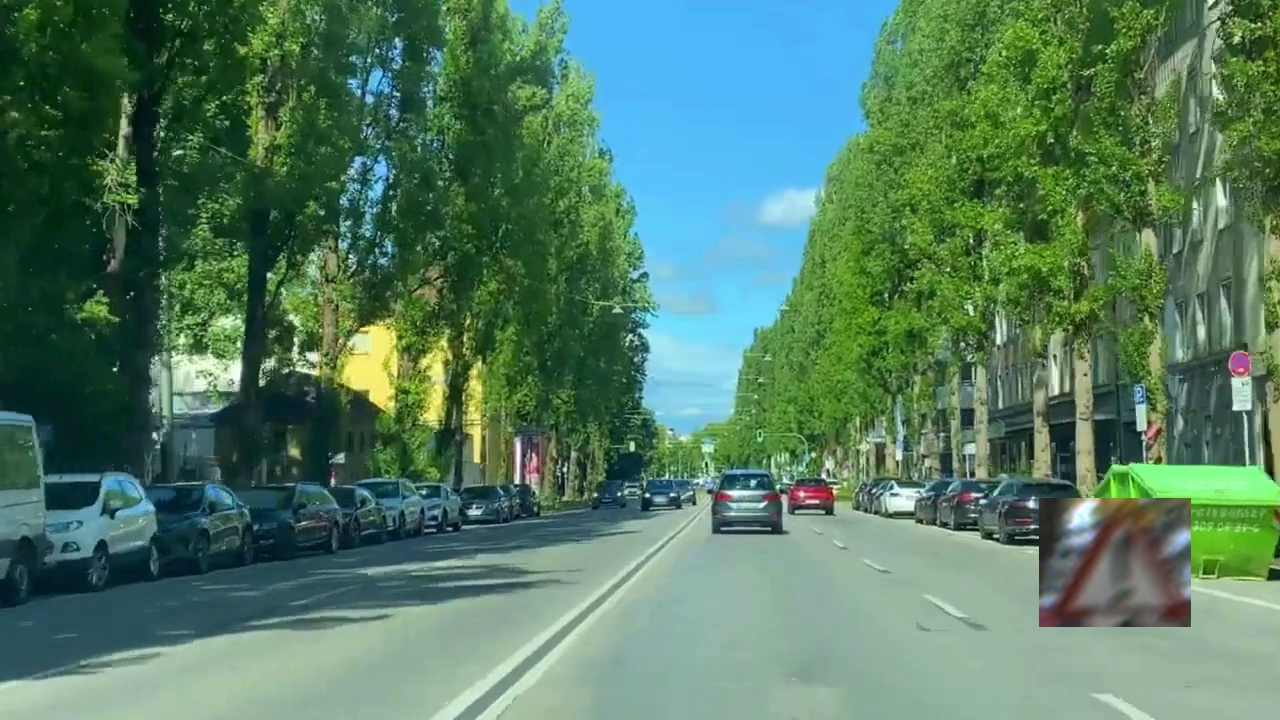Caution: (1039, 498, 1191, 627)
